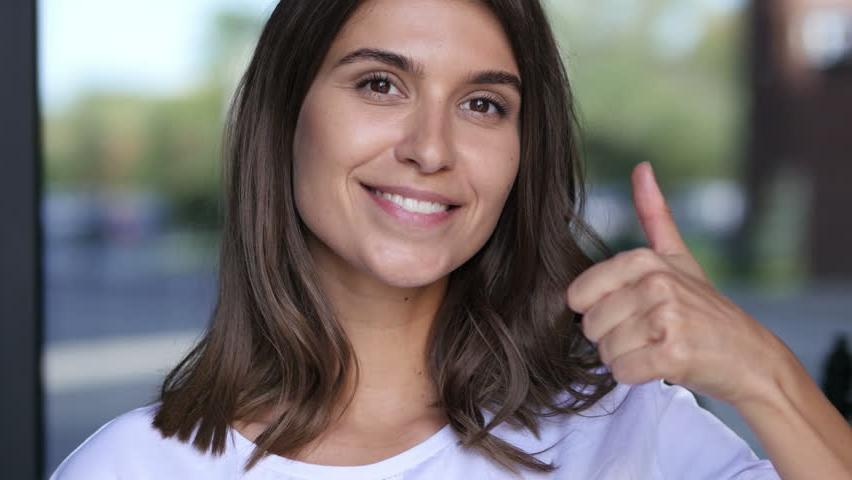thumbsup: (564, 158, 695, 389)
